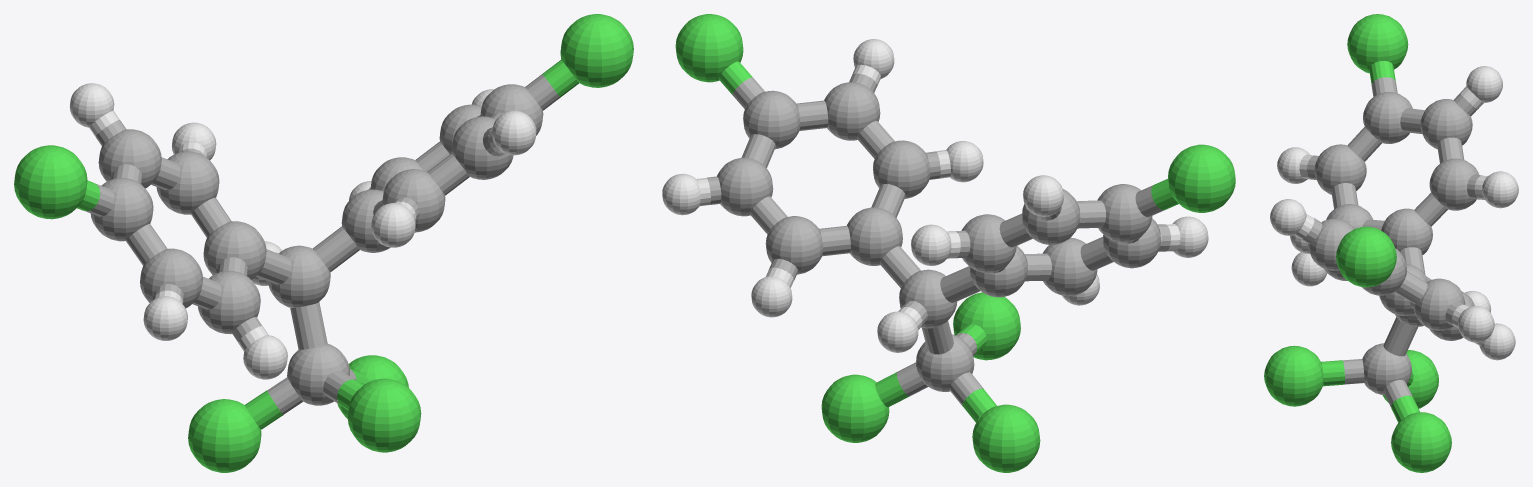
Rendered from PubChem-3036-bas-colorDDT.fbx.
3 renders of one model, left to right at view 1: azimuth 30°, elevation 25°; view 2: azimuth 150°, elevation 25°; view 3: azimuth 270°, elevation 25°, orthographic. The views are drawn at different scales.
Visible parts, largest first — view 1: ShapeSphere.004, ShapeSphere, ShapeSphere.003, ShapeSphere.002, ShapeSphere.005, ShapeSphere.018, ShapeSphere.010, ShapeSphere.012, ShapeSphere.008, ShapeSphere.007, ShapeSphere.016, ShapeSphere.014 (+23 smaller); view 2: ShapeSphere.004, ShapeSphere.002, ShapeSphere.001, ShapeSphere.003, ShapeSphere, ShapeSphere.009, ShapeSphere.015, ShapeSphere.017, ShapeSphere.006, ShapeSphere.013, ShapeSphere.011, ShapeSphere.018 (+33 smaller); view 3: ShapeSphere.001, ShapeSphere.003, ShapeSphere, ShapeSphere.004, ShapeSphere.010, ShapeSphere.016, ShapeSphere.014, ShapeSphere.018, ShapeSphere.015, ShapeSphere.008, ShapeSphere.007, ShapeSphere.013 (+27 smaller).
Part boxes in pixels (x1,y1,x2,y2): ShapeSphere.004: (14, 145, 87, 219); ShapeSphere: (347, 378, 421, 452); ShapeSphere.003: (560, 14, 633, 87); ShapeSphere.002: (188, 399, 261, 472); ShapeSphere.005: (268, 245, 330, 307); ShapeSphere.018: (90, 178, 153, 241); ShapeSphere.010: (156, 151, 219, 214); ShapeSphere.012: (198, 270, 260, 334); ShapeSphere.008: (287, 343, 349, 405); ShapeSphere.007: (203, 221, 266, 279); ShapeSphere.016: (140, 248, 202, 308); ShapeSphere.014: (98, 129, 161, 188); ShapeSphere.004: (1168, 144, 1235, 212); ShapeSphere.002: (972, 404, 1040, 472); ShapeSphere.001: (821, 374, 889, 442); ShapeSphere.003: (675, 14, 743, 82); ShapeSphere: (953, 292, 1020, 360); ShapeSphere.009: (873, 140, 930, 198); ShapeSphere.015: (717, 157, 773, 216); ShapeSphere.017: (743, 90, 800, 149); ShapeSphere.006: (847, 207, 902, 265); ShapeSphere.013: (824, 82, 880, 140); ShapeSphere.011: (765, 216, 822, 274); ShapeSphere.018: (1097, 184, 1152, 242); ShapeSphere.001: (1391, 412, 1451, 472); ShapeSphere.003: (1336, 226, 1396, 287); ShapeSphere: (1264, 345, 1323, 406); ShapeSphere.004: (1347, 14, 1408, 73); ShapeSphere.010: (1429, 158, 1479, 210); ShapeSphere.016: (1314, 144, 1366, 194); ShapeSphere.014: (1420, 99, 1472, 149); ShapeSphere.018: (1363, 92, 1412, 143); ShapeSphere.015: (1413, 278, 1465, 330); ShapeSphere.008: (1362, 343, 1411, 395); ShapeSphere.007: (1381, 208, 1432, 254); ShapeSphere.013: (1308, 218, 1354, 270).
Size of the model in its own units: 1118 by 684 by 497.
